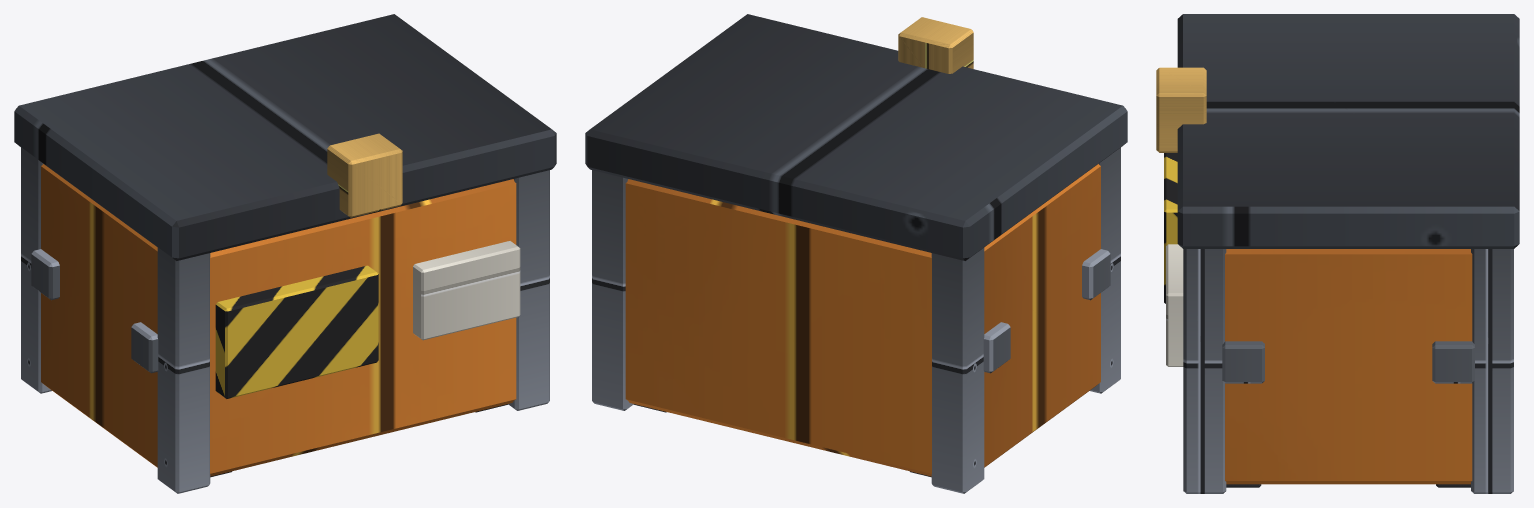
File: PRP_SupplyCrate_A_v1.fbx
3 views of the same model, side by side, from view 1: azimuth 30°, elevation 25°; view 2: azimuth 150°, elevation 25°; view 3: azimuth 270°, elevation 25° (orthographic). The views are drawn at different scales.
Visible parts, largest first — view 1: GEO_SupplyCrate_A; view 2: GEO_SupplyCrate_A; view 3: GEO_SupplyCrate_A.
Boxes of the visible parts, x1,y1,x2,y2 form: GEO_SupplyCrate_A: [14, 14, 556, 493]; GEO_SupplyCrate_A: [585, 14, 1127, 493]; GEO_SupplyCrate_A: [1156, 14, 1519, 493].
Size of the model in its own units: 122 by 90.5 by 93.5.
